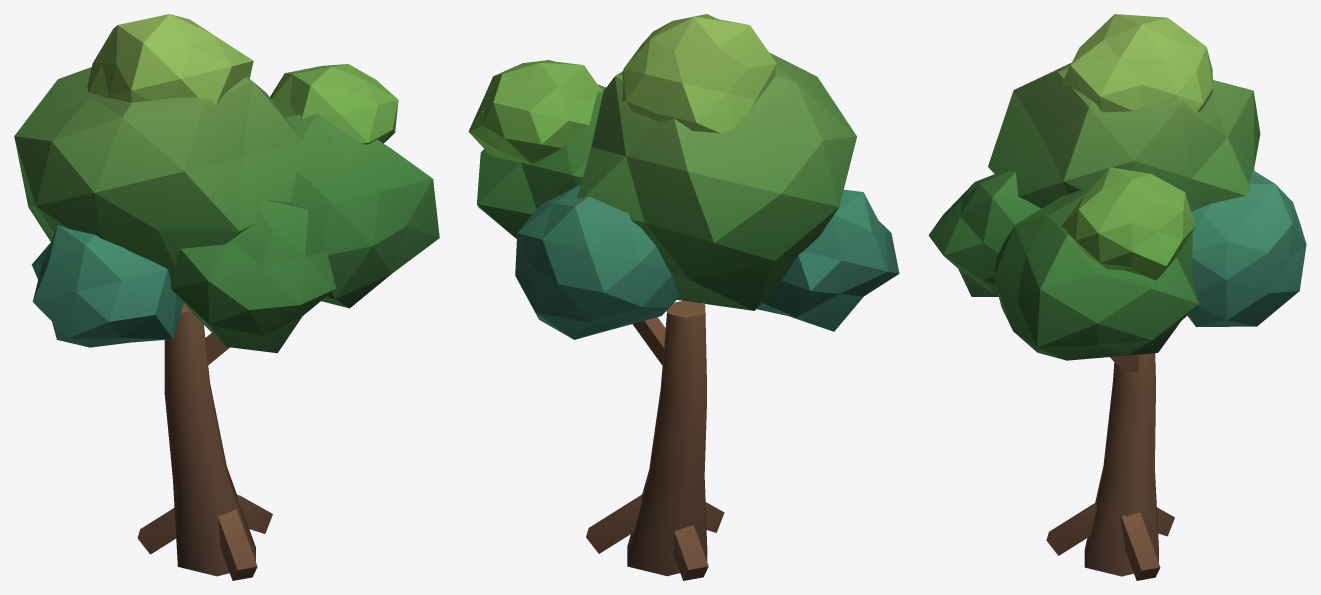
Rendered from tree_oak_b.glb.
The picture shows the model from 3 angles, left to right: view 1: azimuth 30°, elevation 25°; view 2: azimuth 150°, elevation 25°; view 3: azimuth 270°, elevation 25°; orthographic projection. The views are drawn at different scales.
Parts seen in each view (by area): view 1: tree_oak_b; view 2: tree_oak_b; view 3: tree_oak_b.
Boxes of the visible parts, x1,y1,x2,y2 form: tree_oak_b: (14, 14, 439, 580); tree_oak_b: (468, 14, 899, 580); tree_oak_b: (928, 14, 1306, 580).
Bounding box in the file's own units: 21.07 × 28.27 × 18.74.
1 material, 1 textured.
